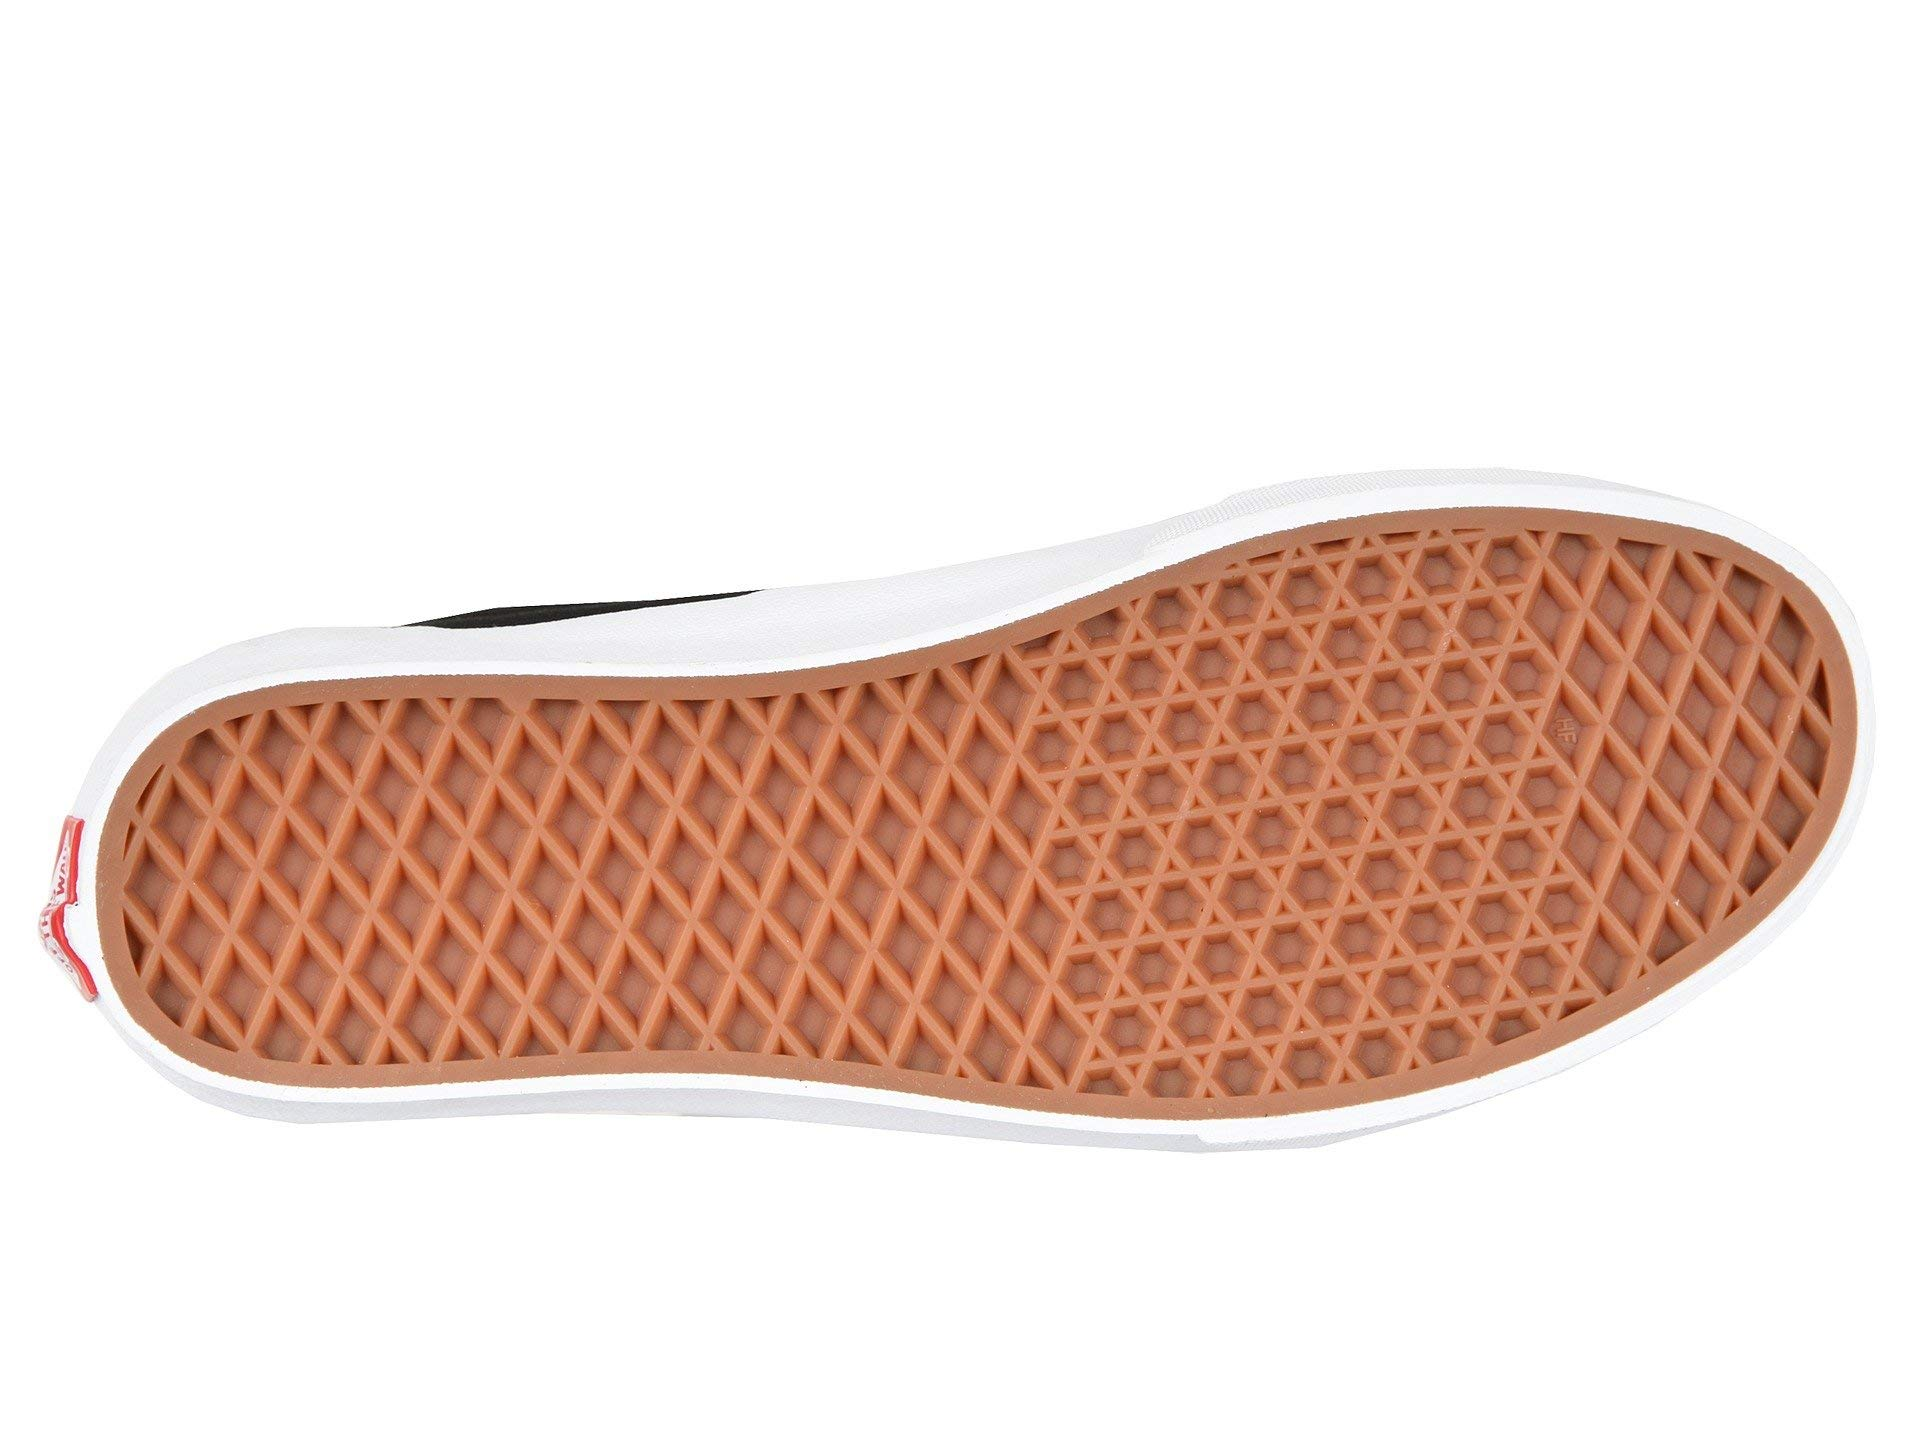polygon: (1085, 659, 1290, 894)
quad: (351, 688, 701, 1066)
triangle: (1085, 659, 1290, 894)
